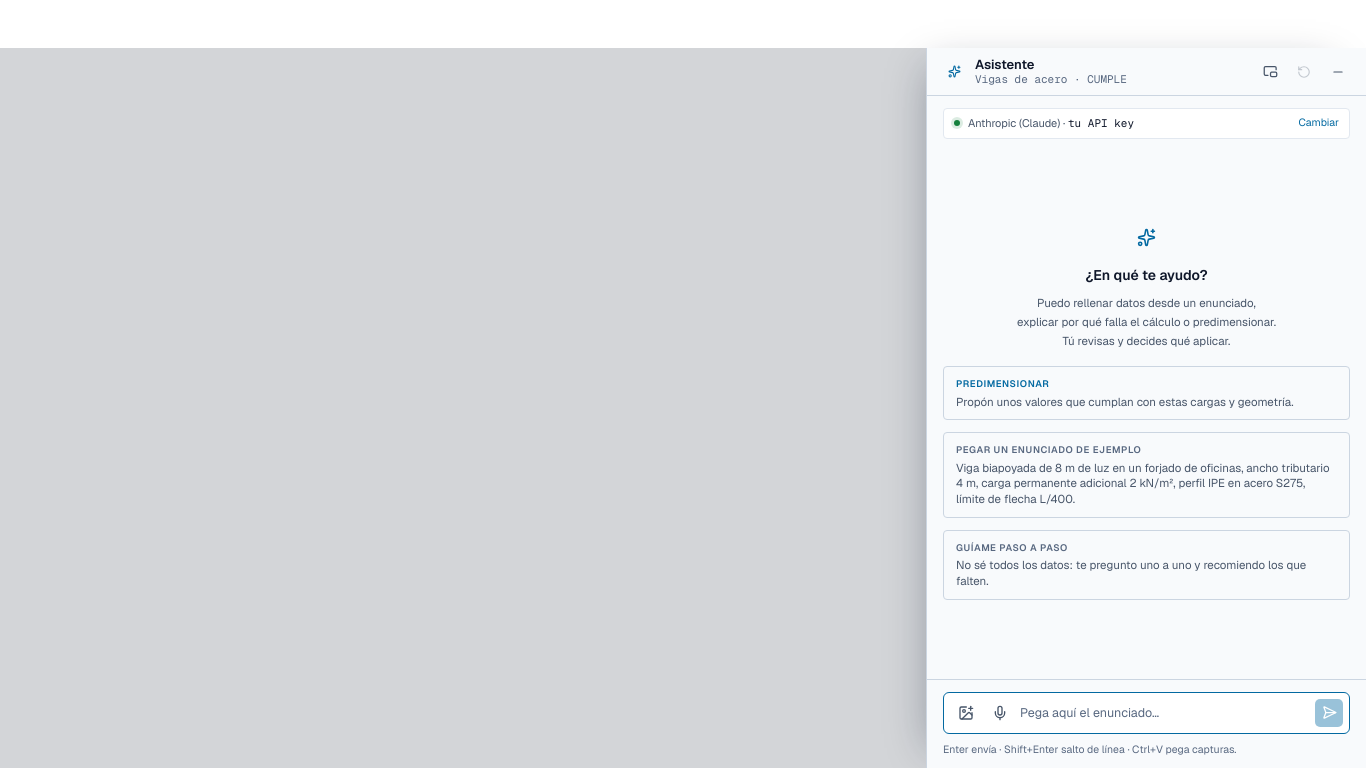
Test case: AiChatModal — envío › envelope con proposal null → solo reply, sin tarjeta
Step 1. Type "¿Qué límite de flecha me recomiendas para tabiques frágiles?" into the text box named "Mensaje para el asistente" → {"x": 1164, "y": 713}, box [1020,700,1309,726]
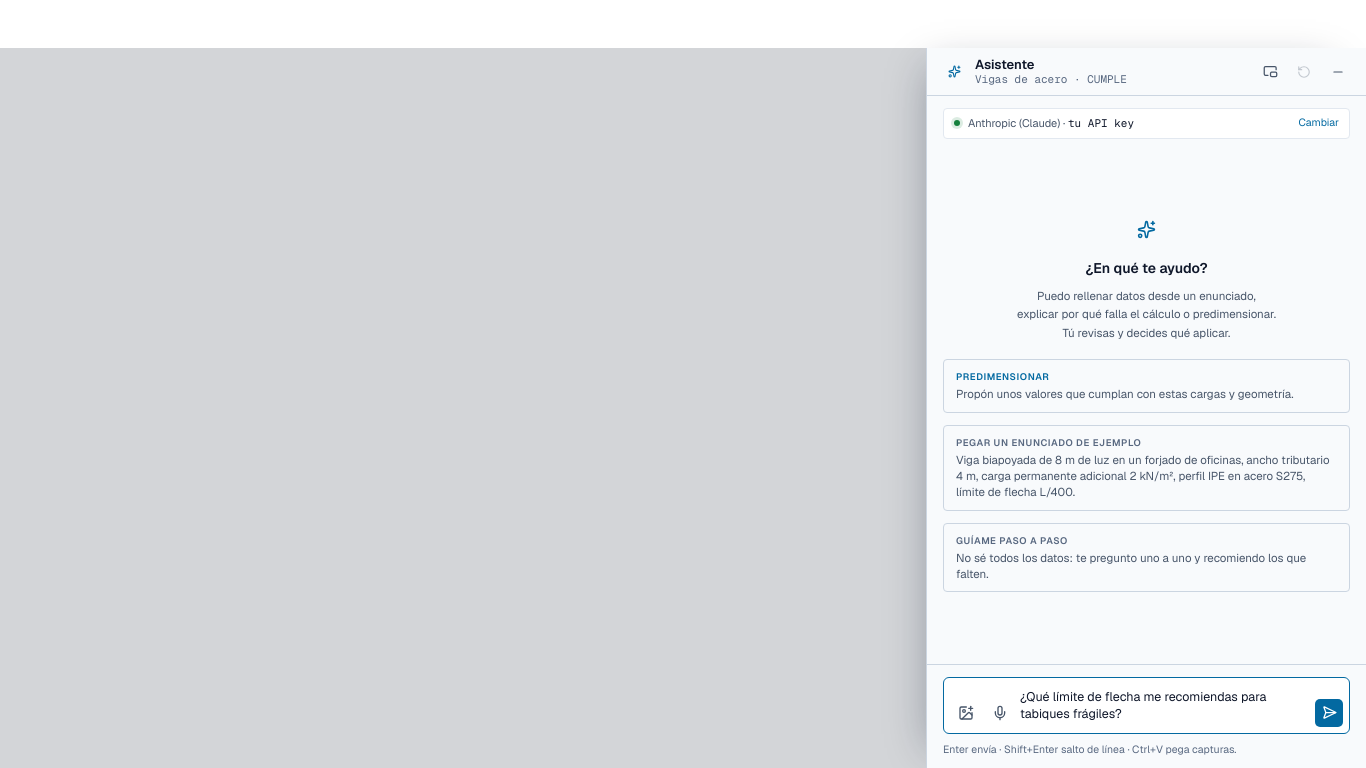
Step 2. Press Enter in the text box named "Mensaje para el asistente", box [1020,684,1309,727]
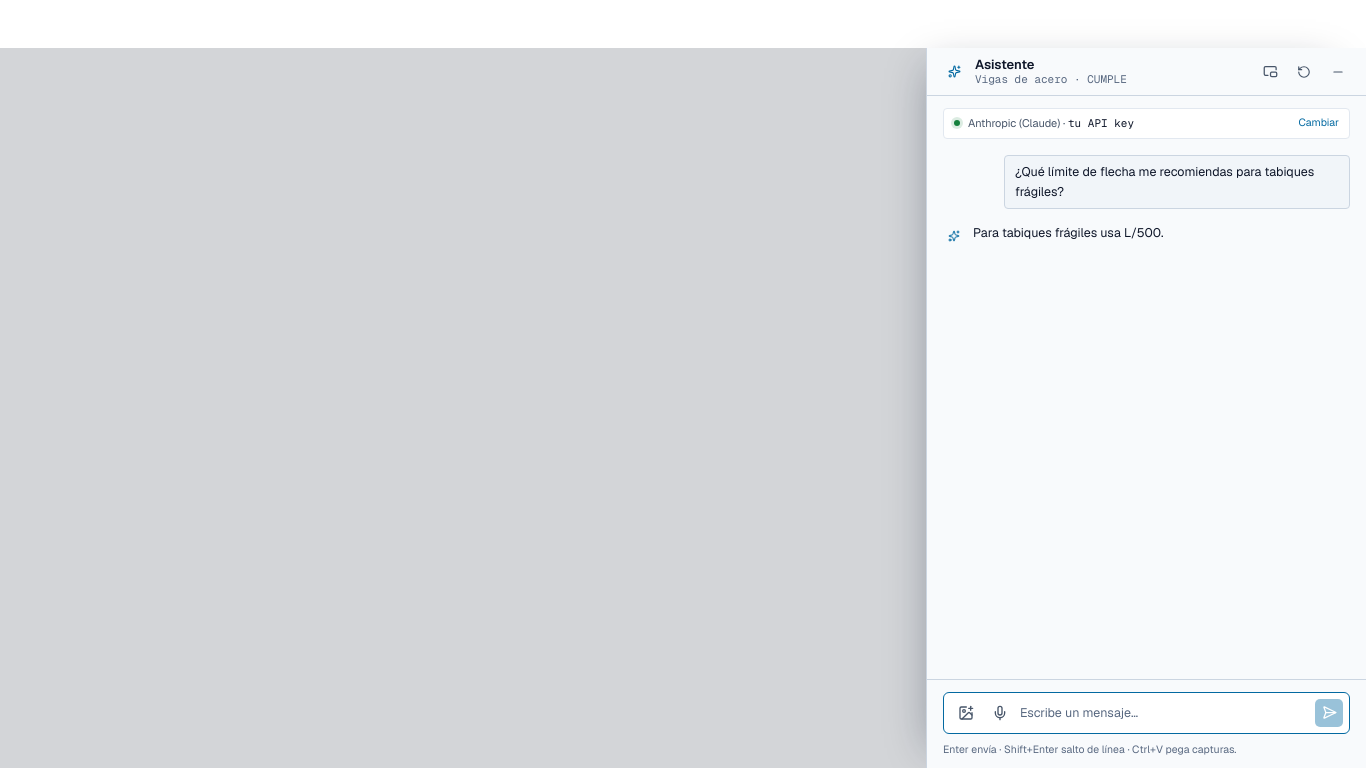
Check: the text "Para tabiques frágiles usa L/500." is shown, box [973,224,1164,241]
Check: the text "Aplicar" is gone
